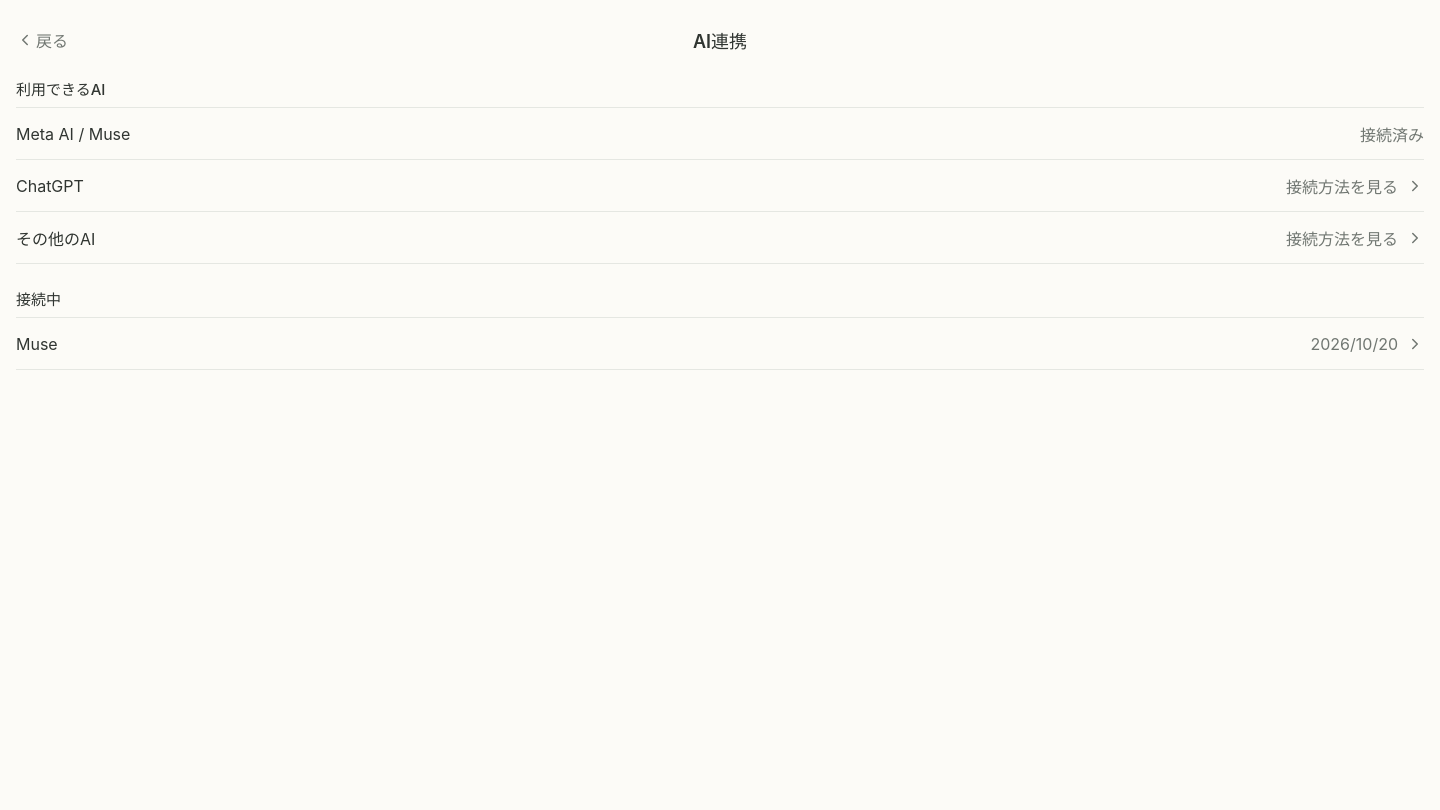
Scenario: AI integrations settings › recognizes a grant from the new public Muse client as Muse
Step 1. Click the button "Meta AI / Muse 接続済み" → [73, 134], box [16,108,1424,160]
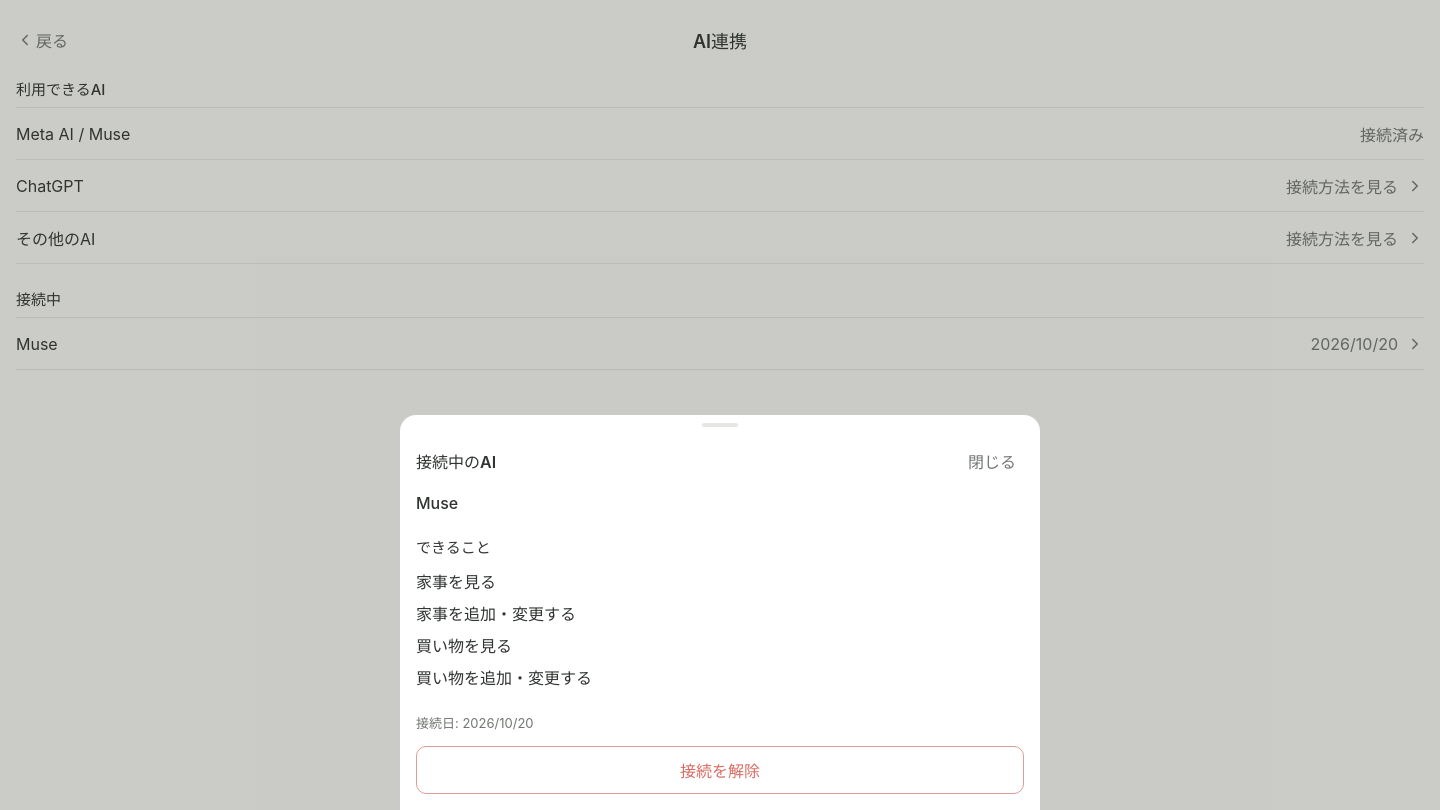
Result: the list item "家事を見る" is shown at [416,572,496,592]
Result: the list item "買い物を追加・変更する" is shown at [416,668,592,688]
Result: the button "接続を解除" is shown at [416,746,1024,794]
